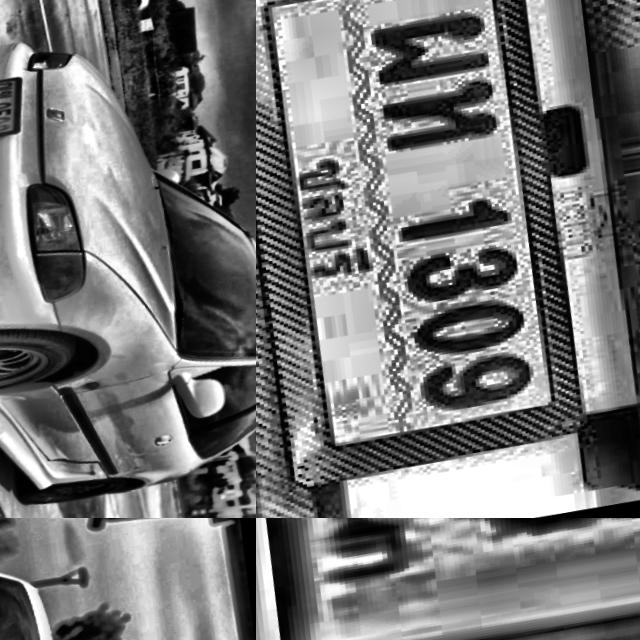license-plate: (256, 0, 638, 514), (256, 518, 640, 640), (0, 71, 36, 143)
